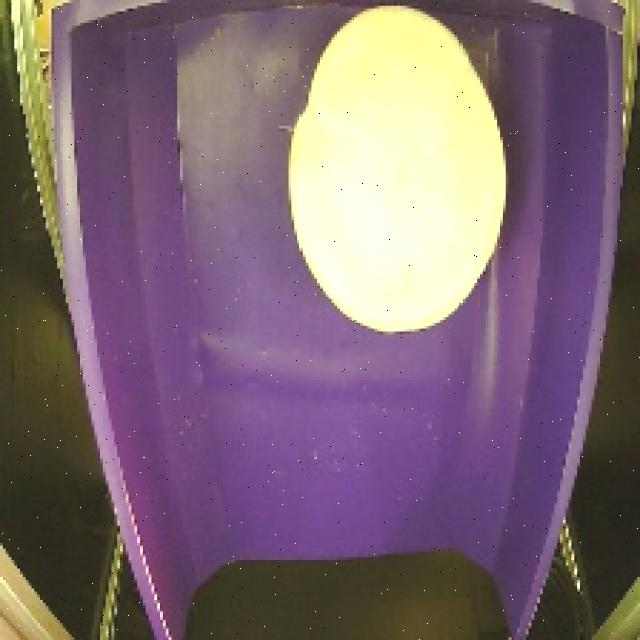white_radish: (282, 1, 519, 343)
